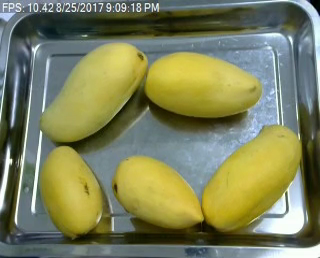Mango: (201, 122, 306, 233), (37, 43, 150, 145), (110, 149, 205, 232), (144, 51, 262, 116), (37, 143, 107, 237)
